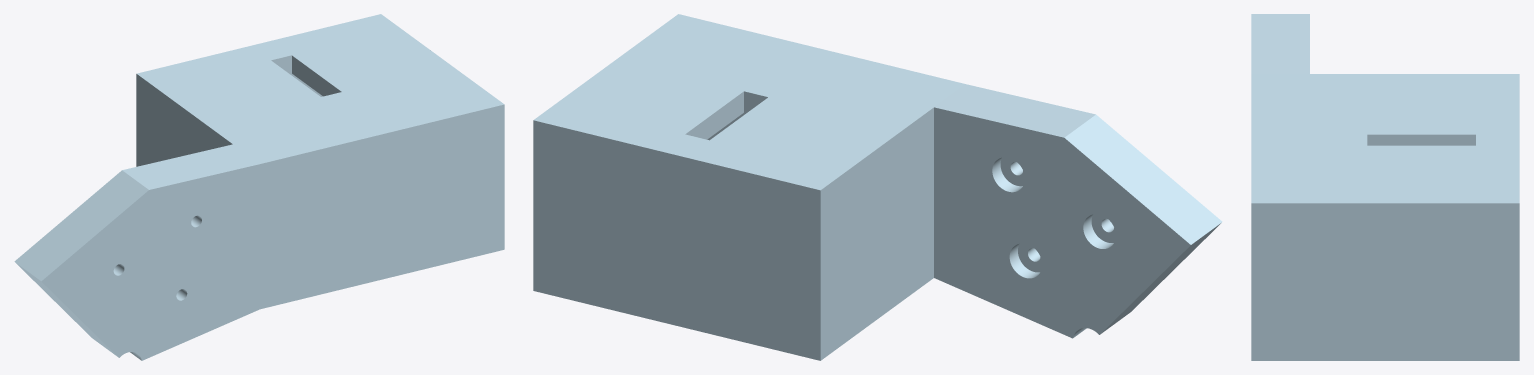
3 views of the same model, side by side, from view 1: azimuth 30°, elevation 25°; view 2: azimuth 150°, elevation 25°; view 3: azimuth 270°, elevation 25° (orthographic). The views are drawn at different scales.
Parts seen in each view (by area): view 1: mesh180, mesh184, mesh171, mesh174, mesh173, mesh191, mesh170; view 2: mesh175, mesh184, mesh168, mesh174, mesh171, mesh173, mesh191, mesh170; view 3: mesh176, mesh184, mesh173, mesh185.
Boxes of the visible parts, bbox=[...] form: mesh180: bbox=[41, 104, 504, 360]; mesh184: bbox=[137, 14, 504, 163]; mesh171: bbox=[14, 170, 148, 281]; mesh174: bbox=[136, 74, 232, 166]; mesh173: bbox=[122, 144, 259, 189]; mesh191: bbox=[292, 55, 341, 96]; mesh170: bbox=[16, 263, 118, 357]; mesh175: bbox=[533, 120, 820, 360]; mesh184: bbox=[533, 14, 965, 190]; mesh168: bbox=[934, 107, 1190, 338]; mesh174: bbox=[820, 107, 933, 360]; mesh171: bbox=[1064, 114, 1222, 244]; mesh173: bbox=[934, 84, 1095, 137]; mesh191: bbox=[685, 91, 743, 139]; mesh170: bbox=[1100, 223, 1220, 334]; mesh176: bbox=[1251, 203, 1519, 360]; mesh184: bbox=[1251, 74, 1519, 203]; mesh173: bbox=[1251, 14, 1309, 73]; mesh185: bbox=[1367, 134, 1475, 145].
Size of the model in its own units: 0.1335 by 0.0466 by 0.0617.
